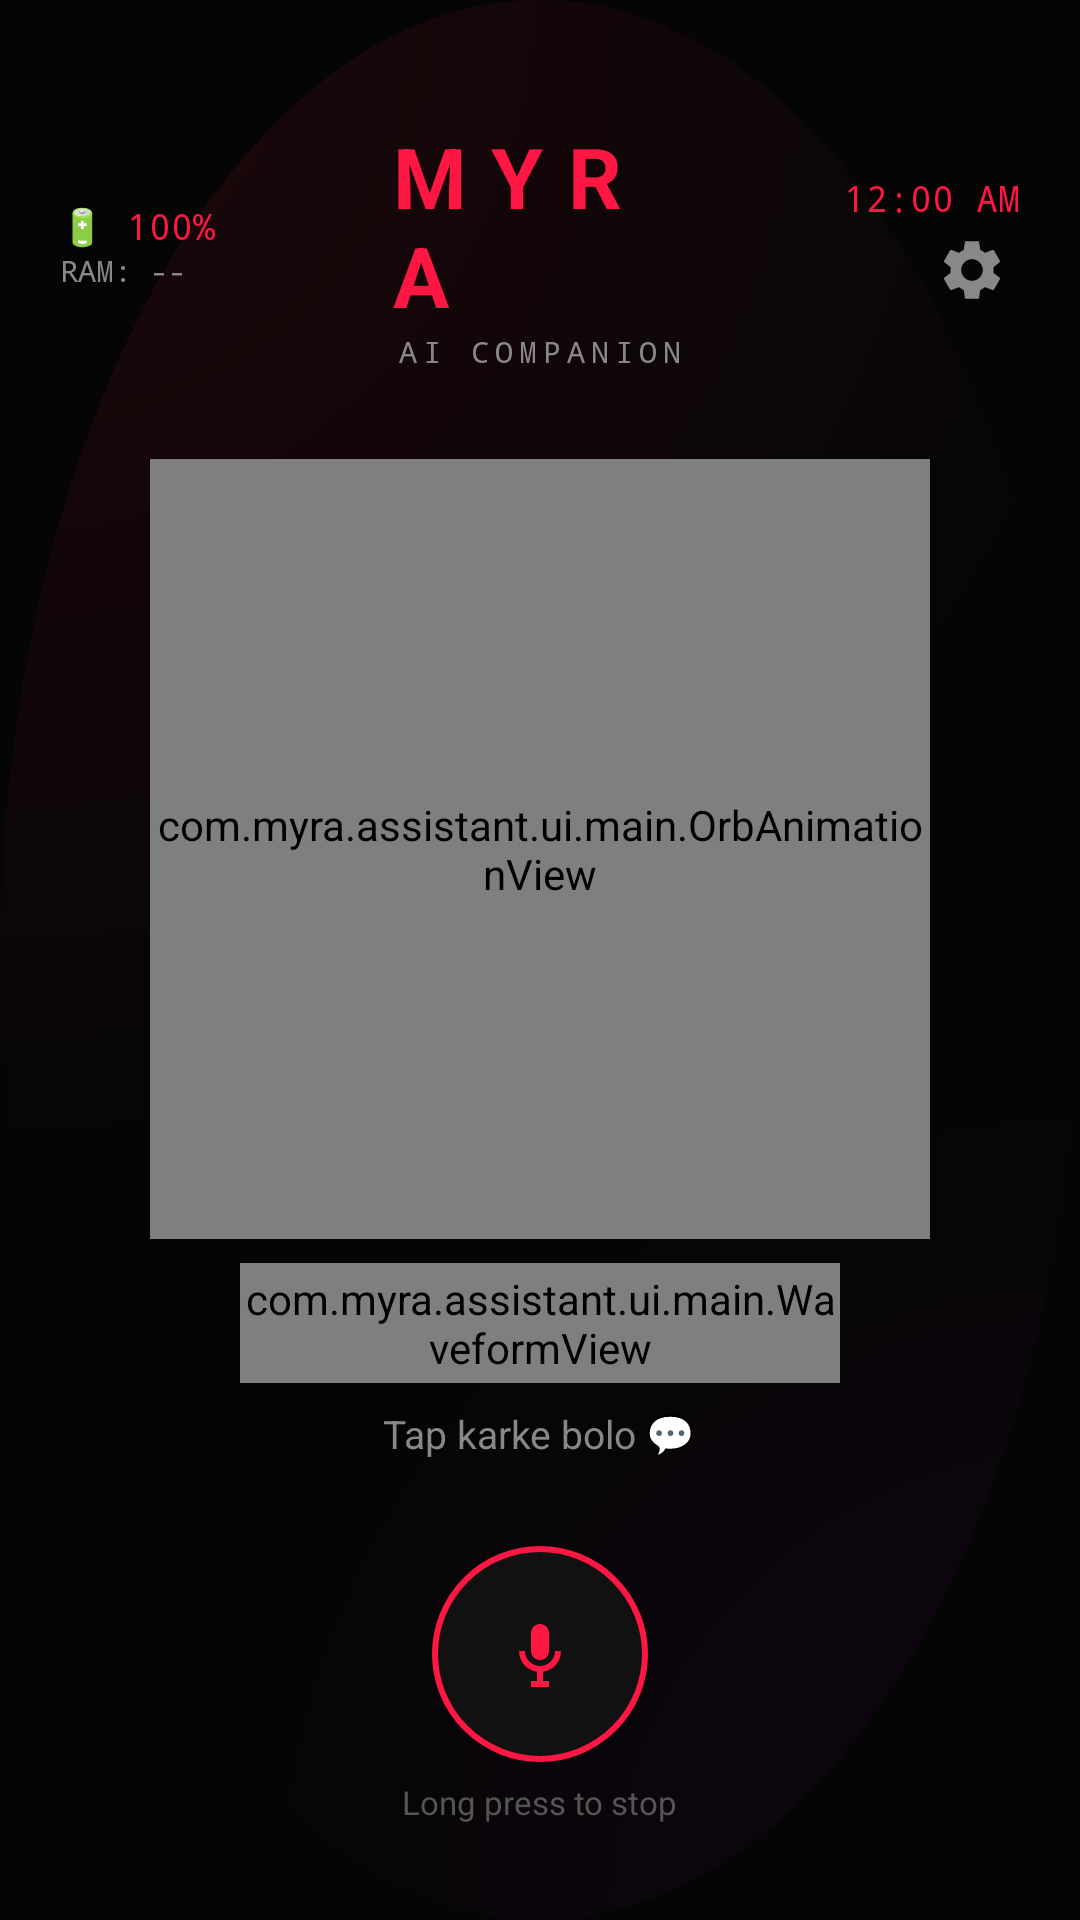

Screen size 1080px×1920px. Icon name, then its center in pixels as [x,y]:
Microphone: [540,1654]
Settings: [972,270]
